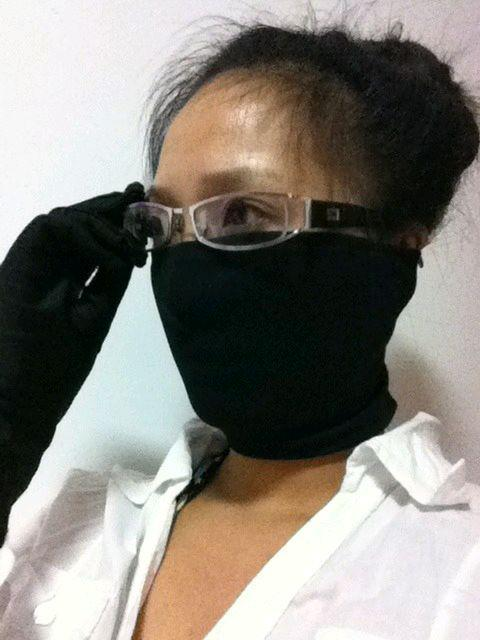OK: (133, 152, 406, 425)
